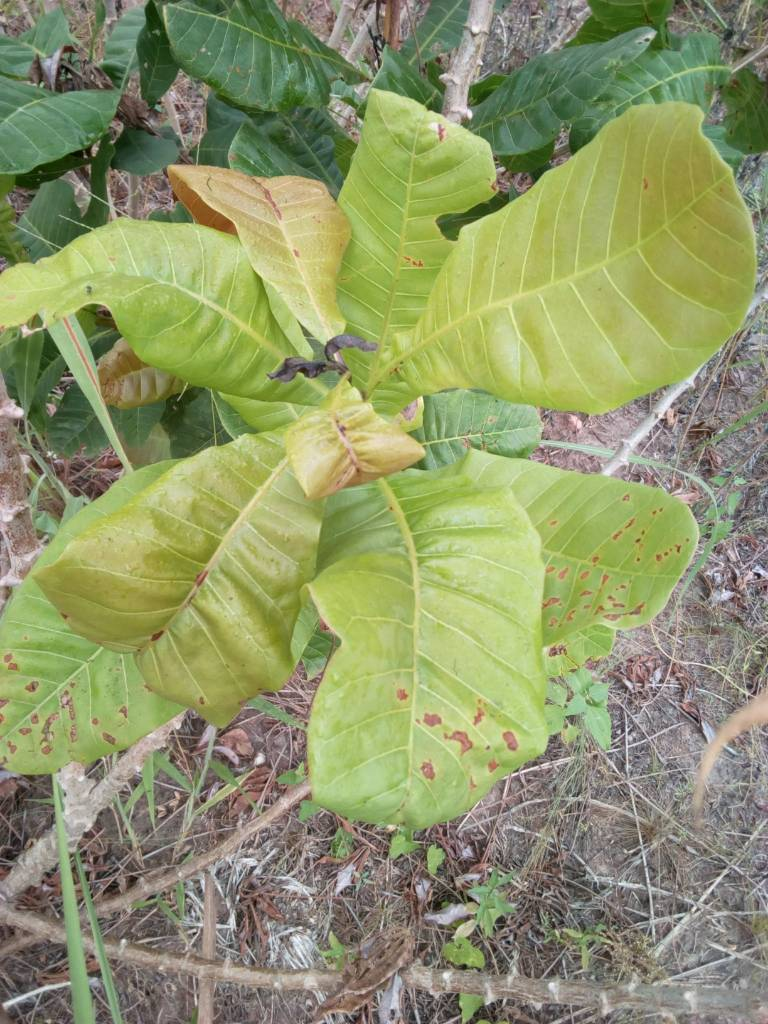Helopeltis anacardii: (46, 421, 313, 710), (322, 514, 536, 822), (1, 225, 316, 396), (291, 394, 429, 494)
